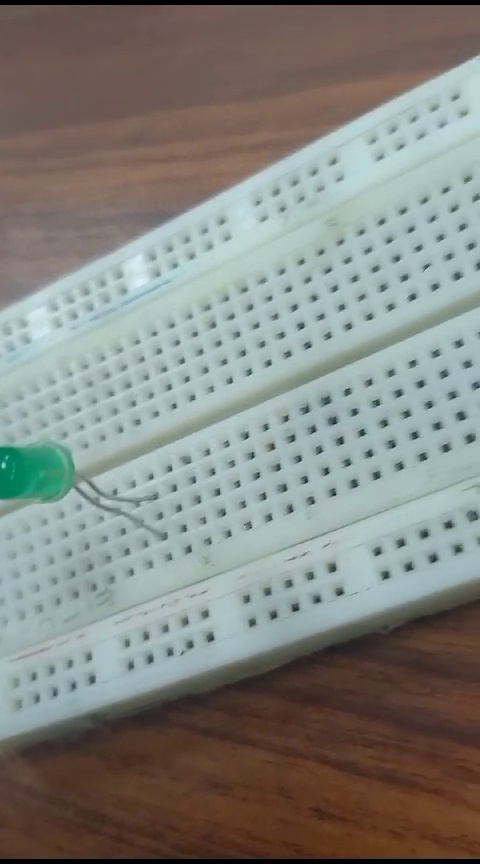LED: (2, 432, 160, 545)
